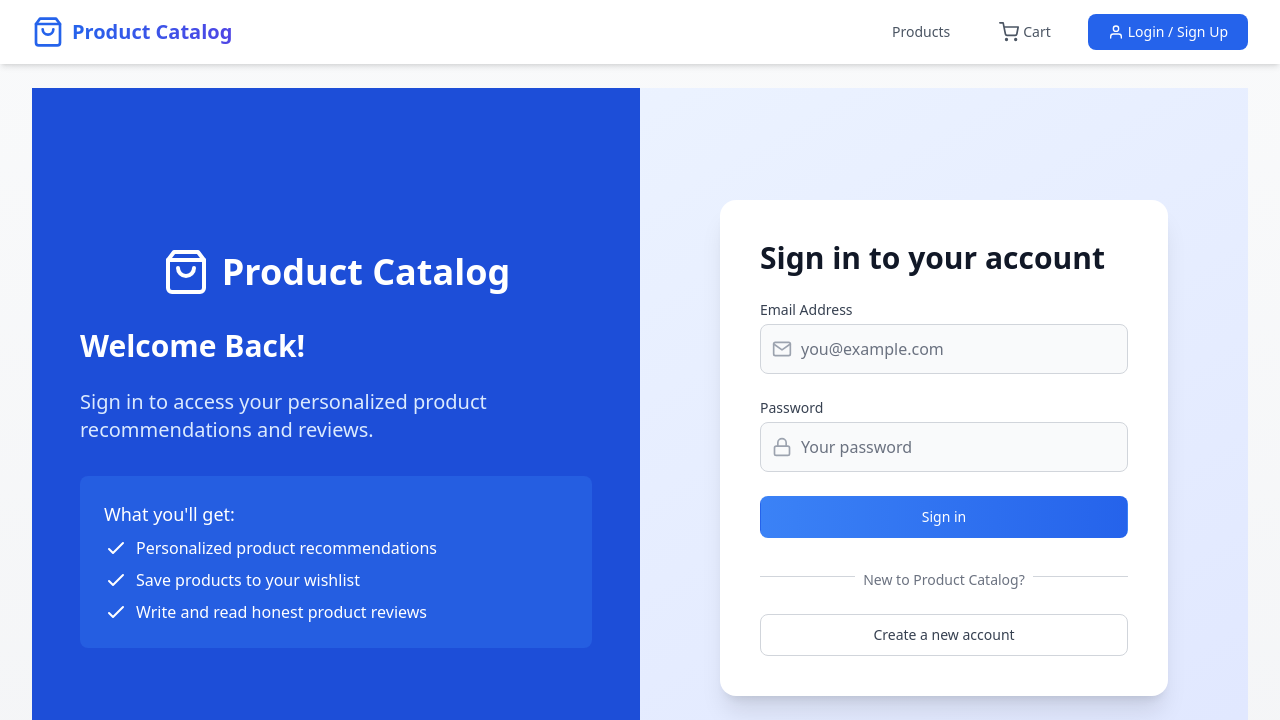
it: Authentication Flow › handles failed login with error message
This screenshot has width=1280, height=720.
Fill and submit login form
Type "wrong@example.com" into the field named "email" at (944, 349), box x1=760 y1=324 x2=1128 y2=374
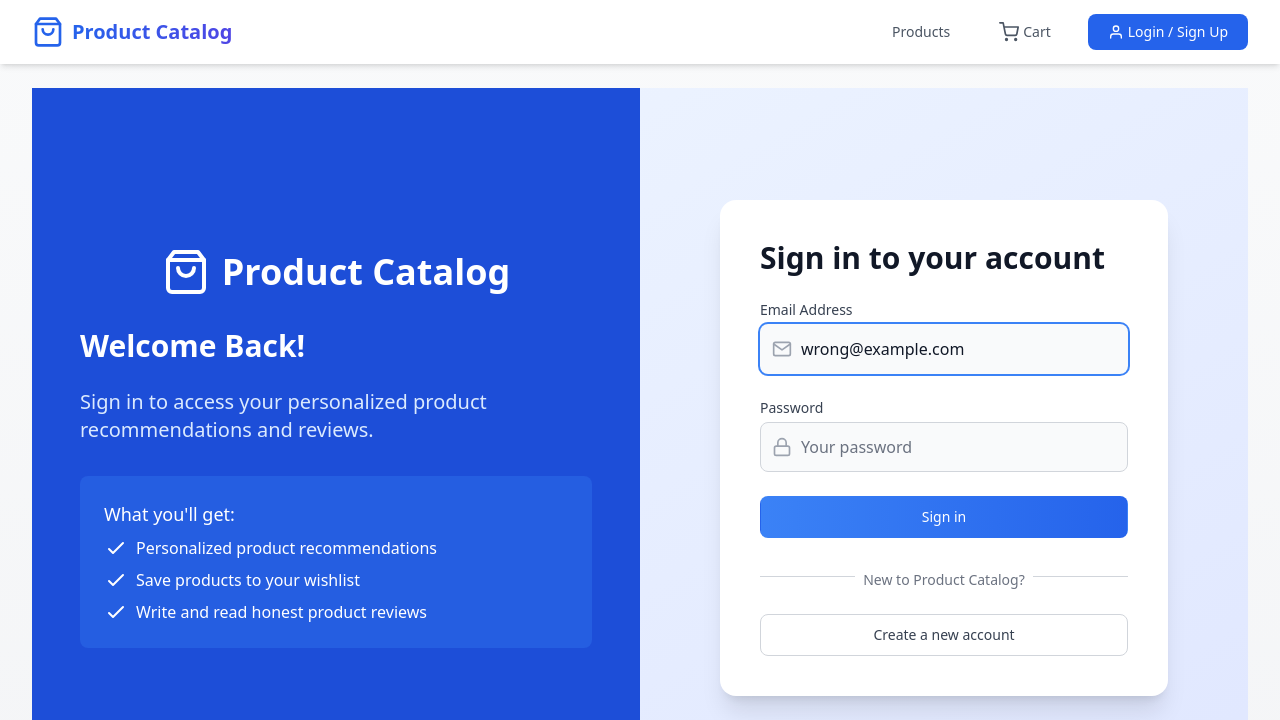
Type "wrongpassword" into the password field named "password" at (944, 447), box x1=760 y1=422 x2=1128 y2=472
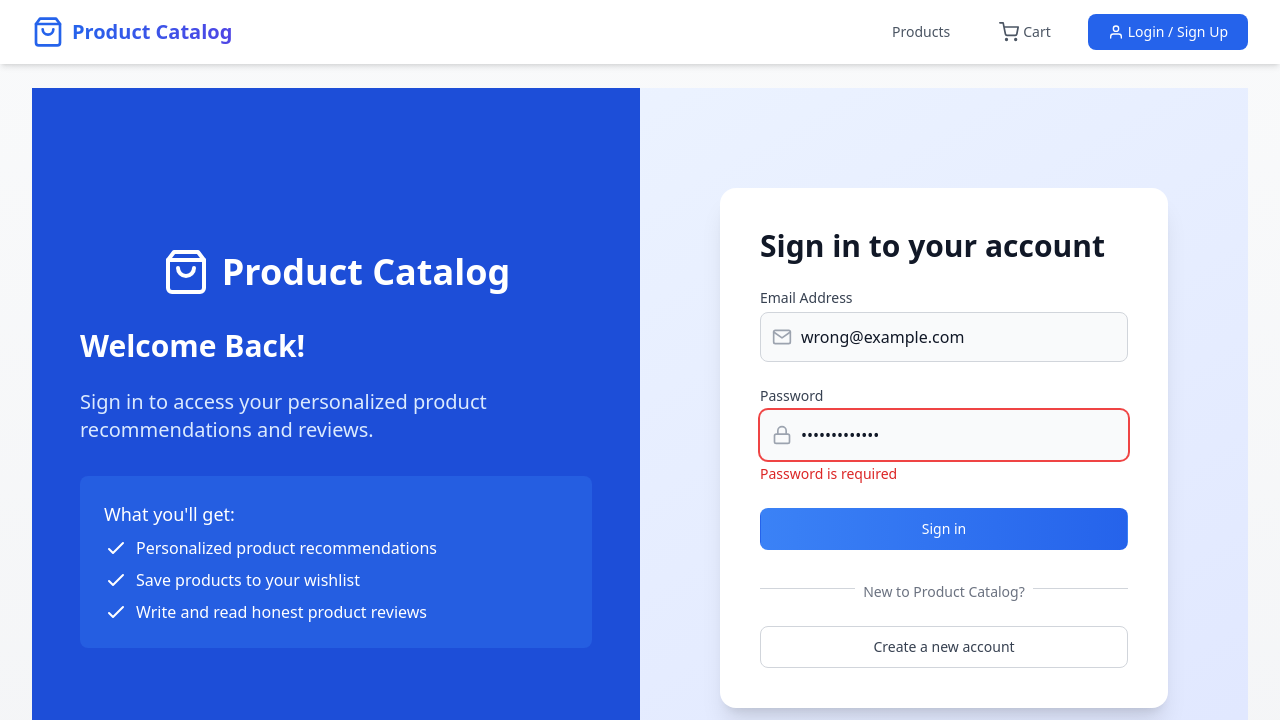
Click the button "Sign in" at (944, 529), box x1=760 y1=508 x2=1128 y2=550
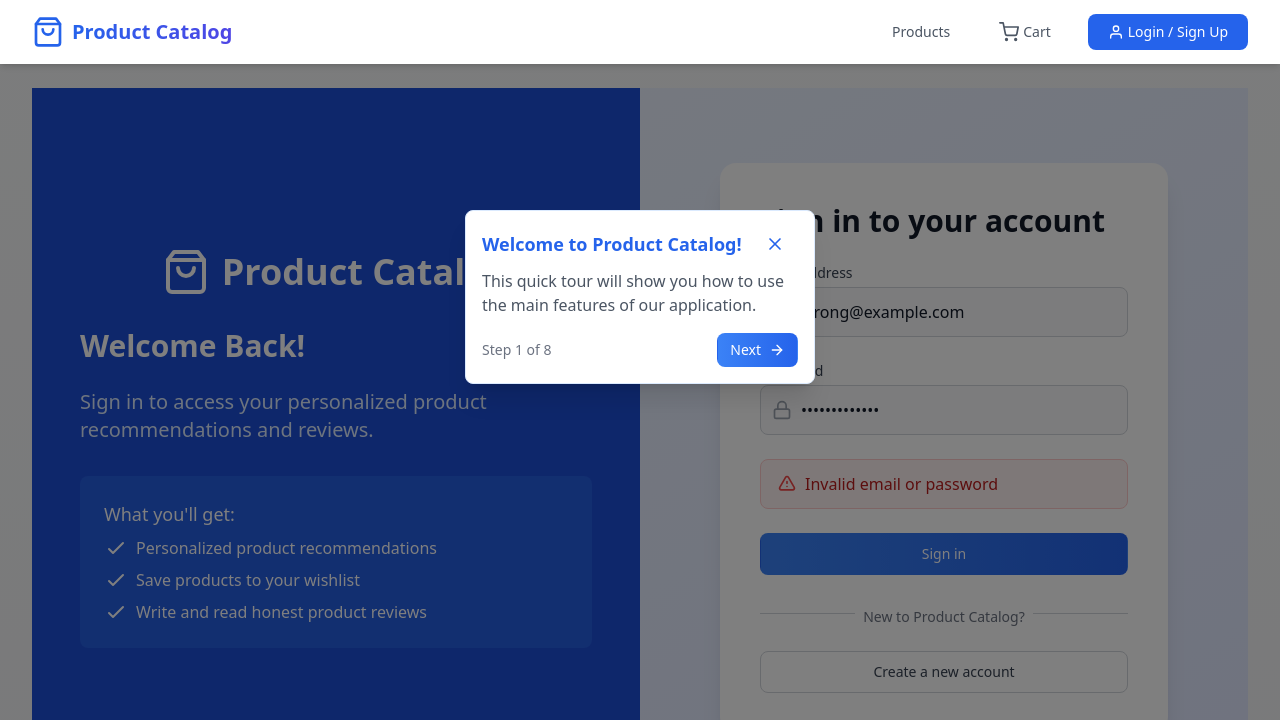
Result: the text "Invalid email or password" is shown at x1=805 y1=472 x2=998 y2=496
